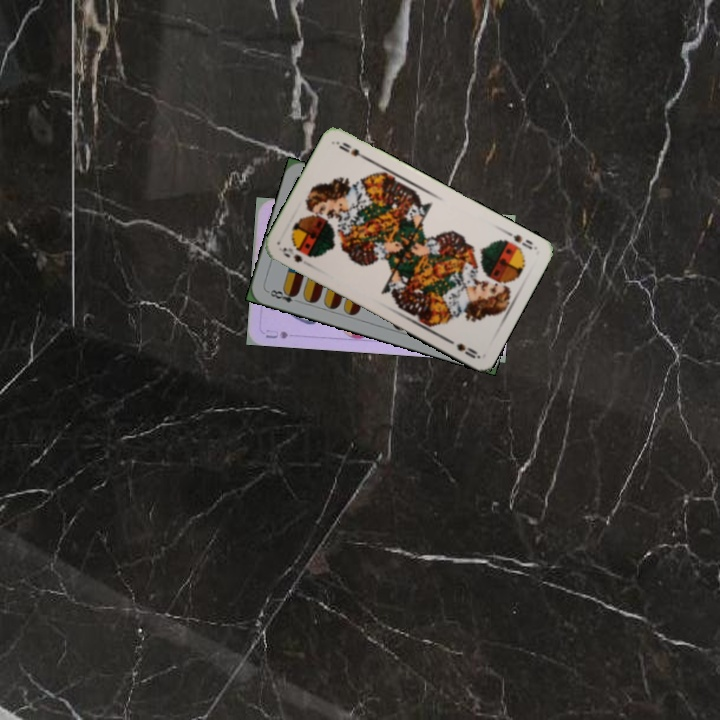E8: (263, 285, 303, 306)
SO: (501, 226, 539, 252), (278, 243, 305, 265)
SU: (261, 326, 290, 341)
